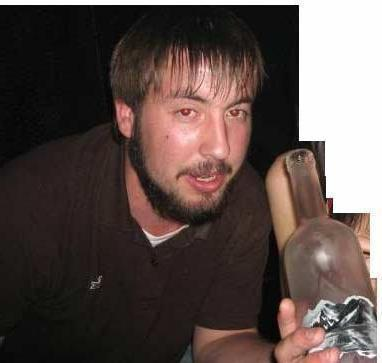Drunk: (150, 55, 250, 214)
